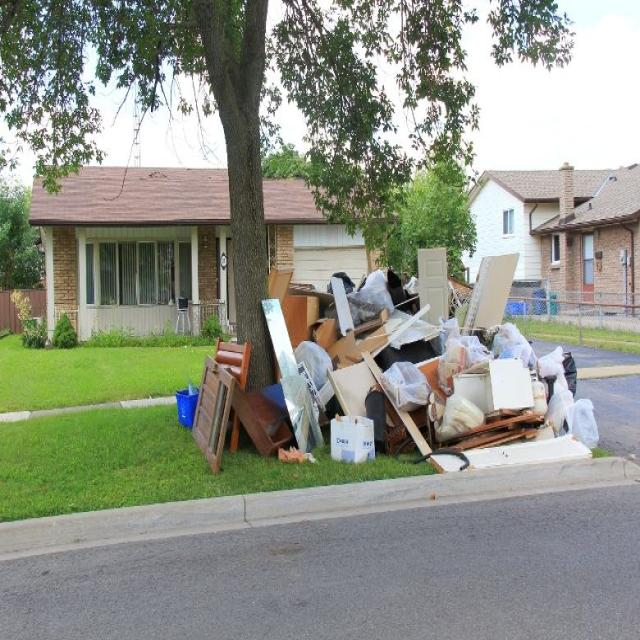House: (21, 172, 388, 352), (431, 158, 640, 329)
